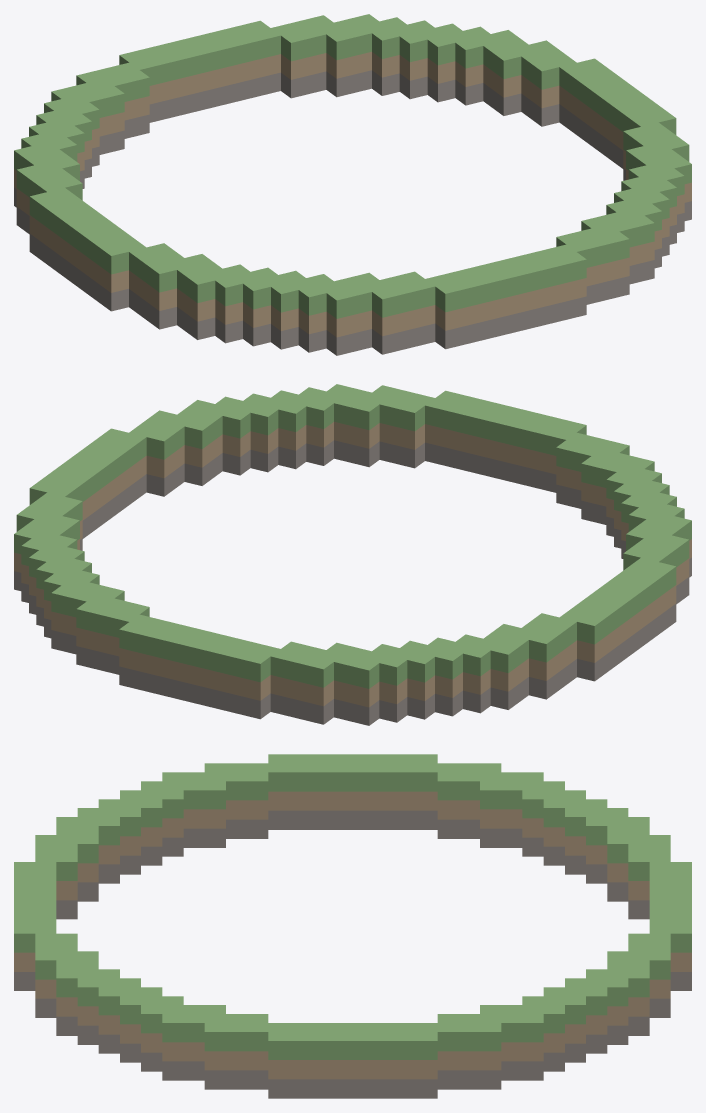
Rendered from arene_7.glb.
The picture shows the model from 3 angles, top to bottom: view 1: azimuth 30°, elevation 25°; view 2: azimuth 150°, elevation 25°; view 3: azimuth 270°, elevation 25°; orthographic projection. The views are drawn at different scales.
Visible parts, largest first — view 1: geometry_0; view 2: geometry_0; view 3: geometry_0.
Part boxes in pixels (x1,y1,x2,y2): geometry_0: (14, 14, 691, 355); geometry_0: (14, 384, 691, 725); geometry_0: (14, 754, 691, 1098).
Size of the model in its own units: 16 by 1.5 by 16.
